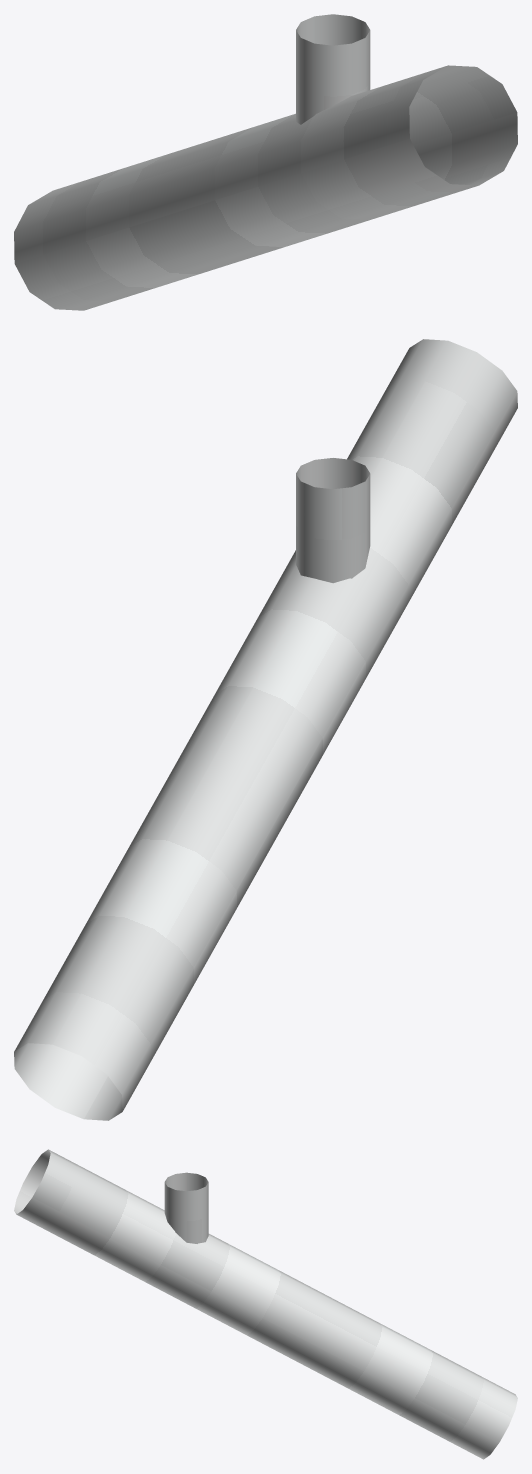
The model's file is luminairearm_truss12ftstraightdouble_c12.obj.
The picture shows the model from 3 angles, top to bottom: view 1: azimuth 30°, elevation 25°; view 2: azimuth 150°, elevation 25°; view 3: azimuth 270°, elevation 25°; orthographic projection. The views are drawn at different scales.
Parts seen in each view (by area): view 1: luminairearm_truss12ftstraightdouble_c12; view 2: luminairearm_truss12ftstraightdouble_c12; view 3: luminairearm_truss12ftstraightdouble_c12.
Part boxes in pixels (x1,y1,x2,y2): luminairearm_truss12ftstraightdouble_c12: (14,14,517,310); luminairearm_truss12ftstraightdouble_c12: (14,339,517,1120); luminairearm_truss12ftstraightdouble_c12: (14,1149,517,1459).
Bounding box in the file's own units: 0.1562 × 0.711 × 1.07.
